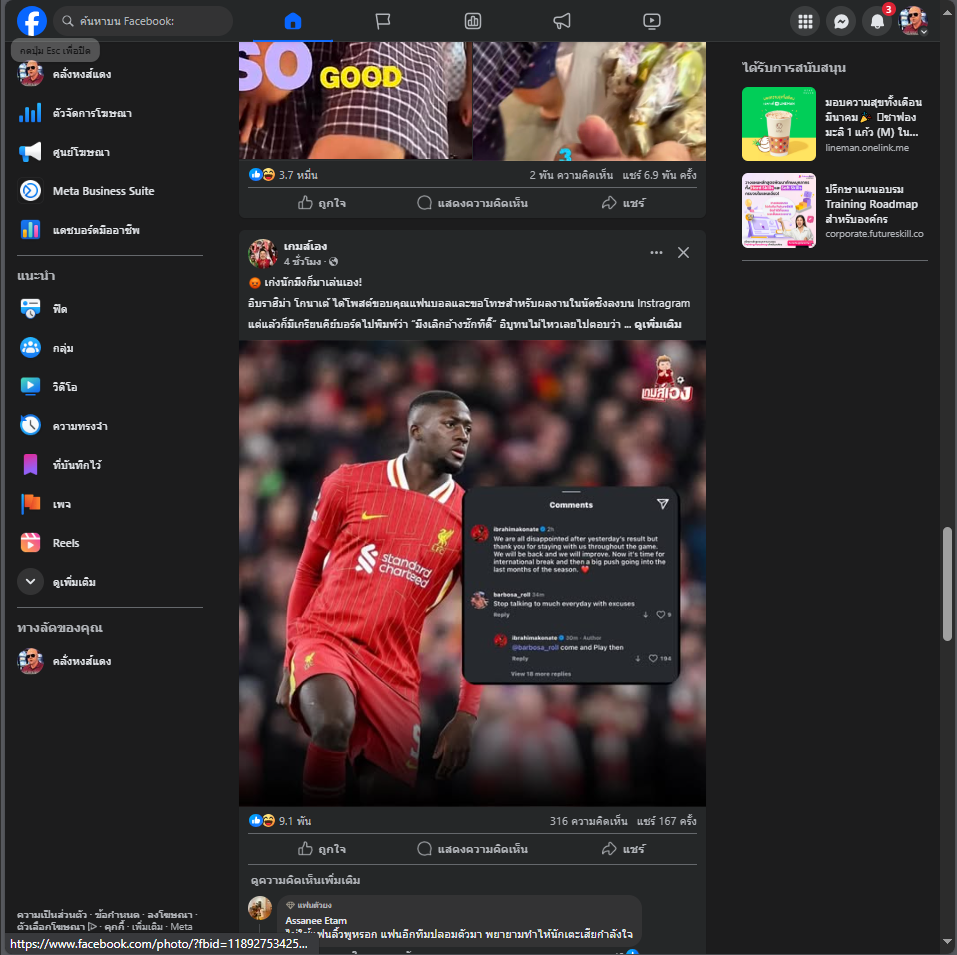topic: (239, 230, 706, 952), (238, 40, 707, 220)
